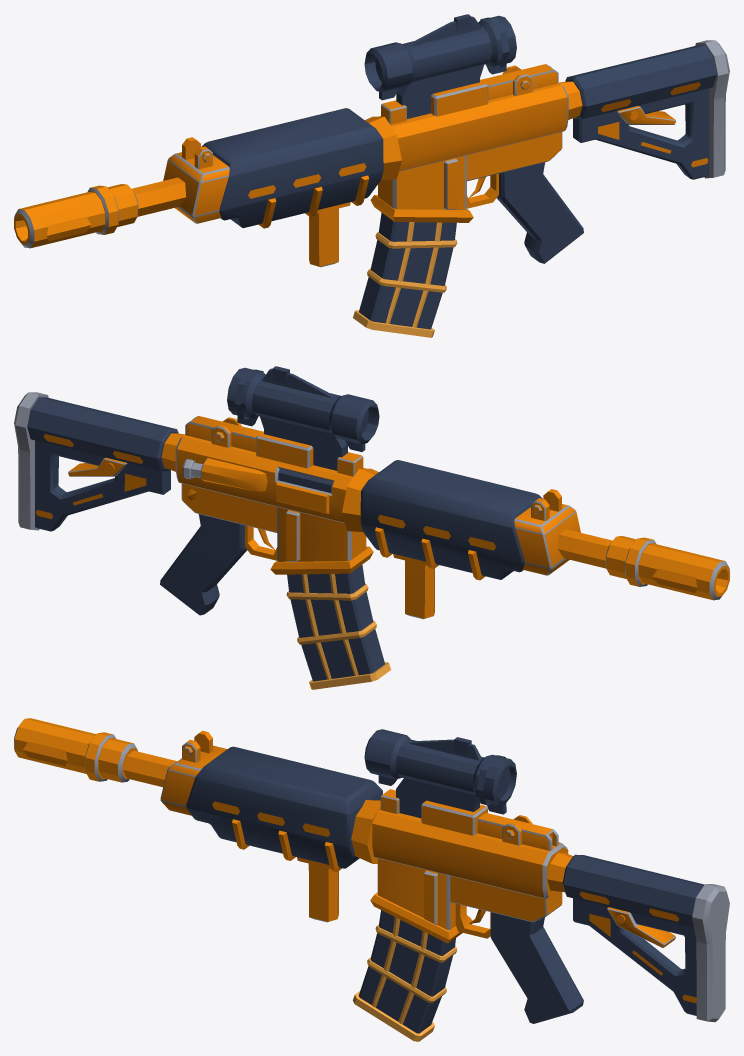
Rendered from gun_3.fbx.
The picture shows the model from 3 angles, top to bottom: view 1: azimuth 30°, elevation 25°; view 2: azimuth 150°, elevation 25°; view 3: azimuth 330°, elevation 25°; orthographic projection.
Parts seen in each view (by area): view 1: 3; view 2: 3; view 3: 3.
Boxes of the visible parts, <box> form: 3: <box>14,14,729,337</box>; 3: <box>14,366,729,689</box>; 3: <box>14,718,729,1041</box>.
Bounding box in the file's own units: 88.46 × 37.07 × 9.27.
